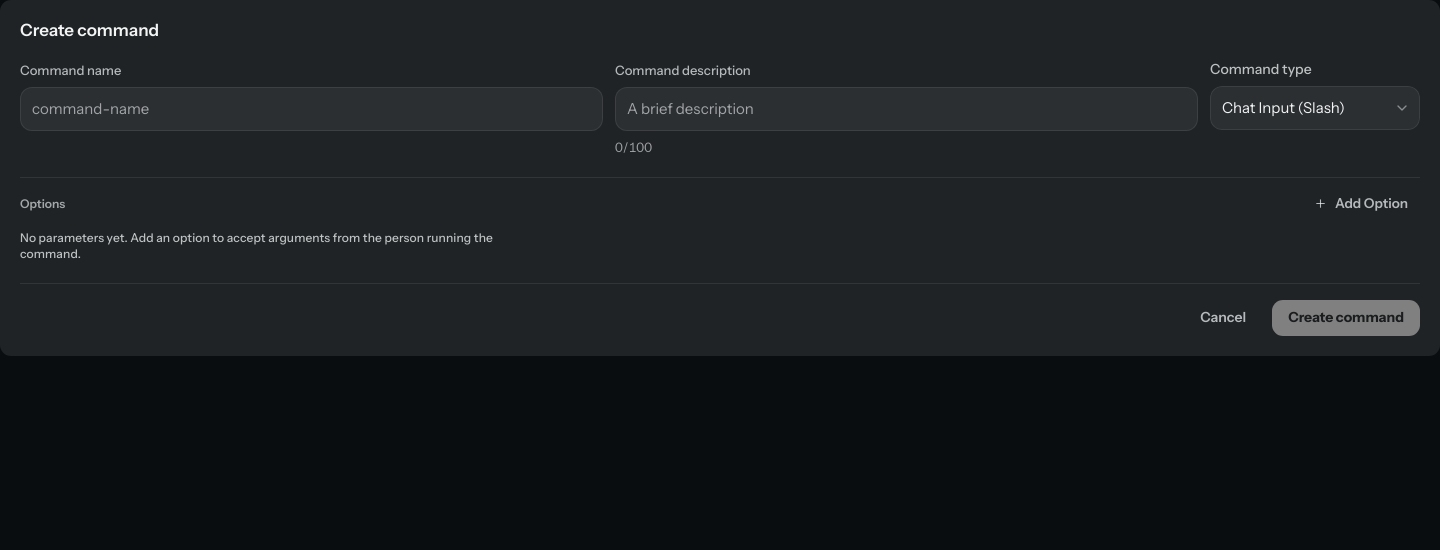
CommandBuilder › labels option expand and choice remove controls
Step 1. Click the button "Add Option" → (1361, 204), box 1302,188 -> 1420,220
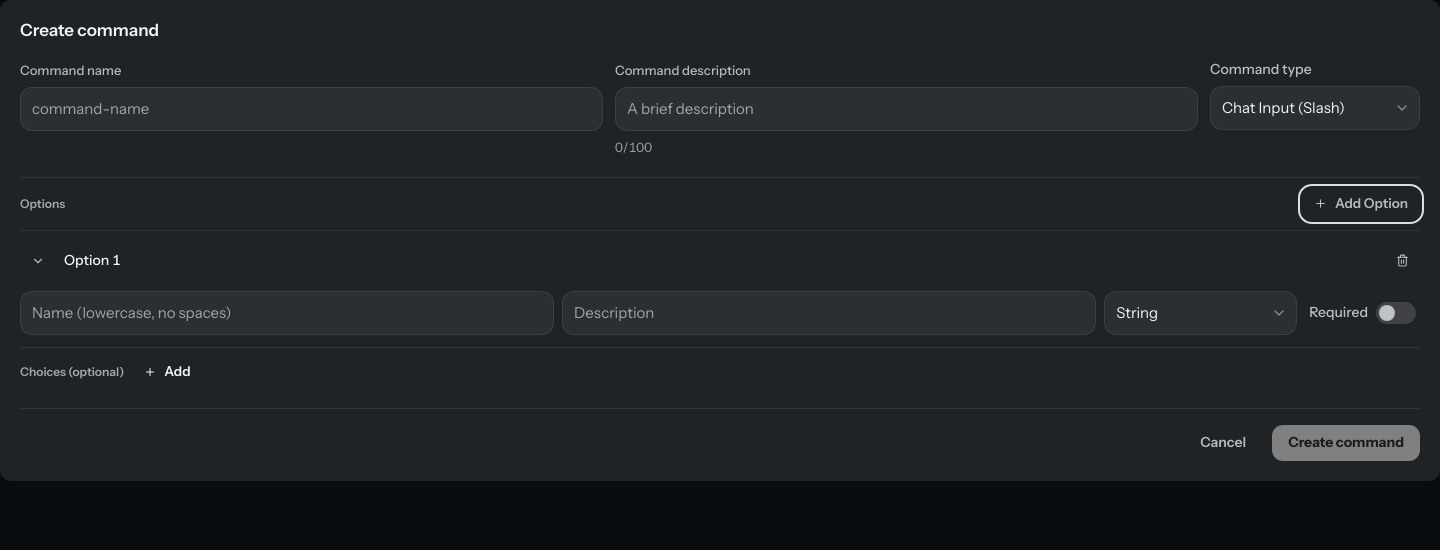
expect the button named "Collapse option 1" is shown: met, box 20,243 -> 56,279
Step 2. Click the button "Add" → (167, 372), box 132,356 -> 203,388
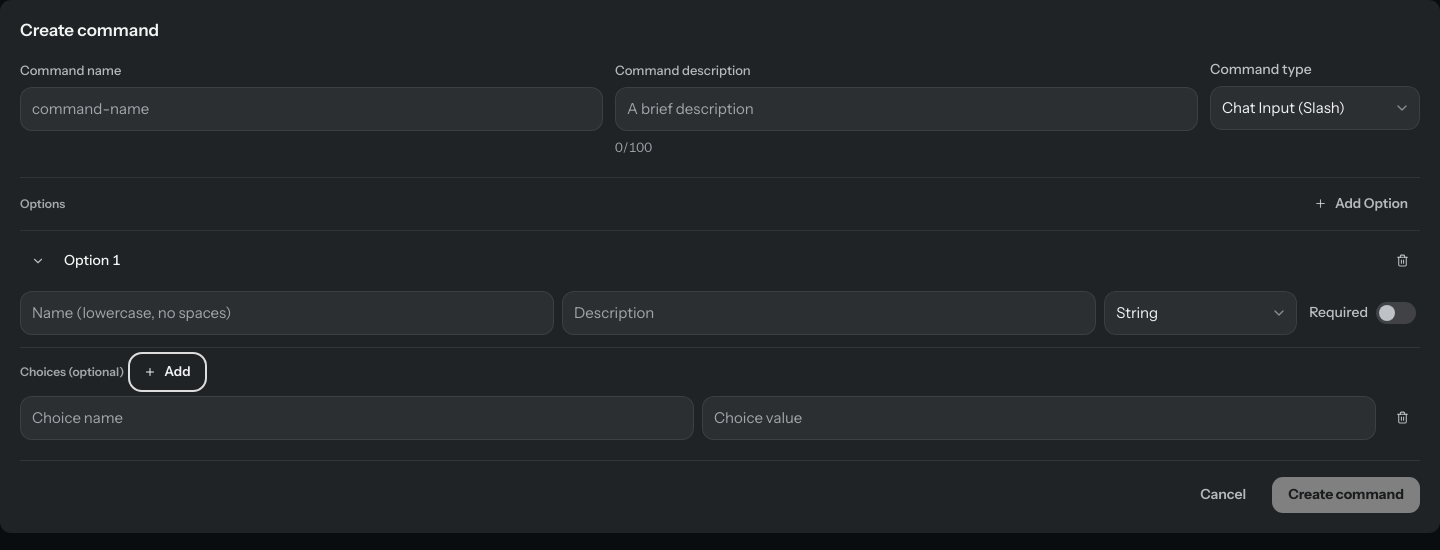
expect the button named "Remove choice 1 from option 1" is shown: met, box 1384,400 -> 1420,436
